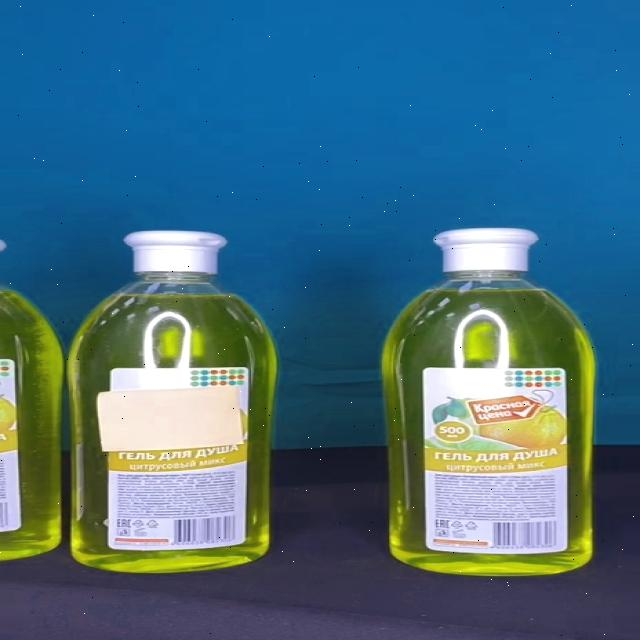Bottle: (383, 229, 595, 575), (68, 230, 277, 572)
Cap: (434, 229, 538, 273), (125, 230, 227, 274)
